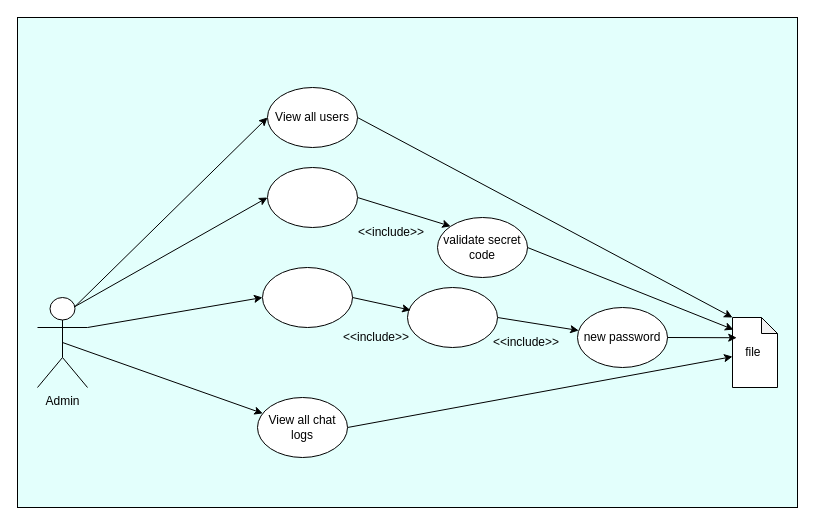
Some shapes in this 815 by 525 pixel diagram are drawn without their labels. The box of each missing label's shape, as (x1, y1, x2, y2) in pixels:
Delete a user: (266, 166, 358, 228)
old password: (406, 286, 498, 348)
Reset Password: (262, 266, 352, 328)
